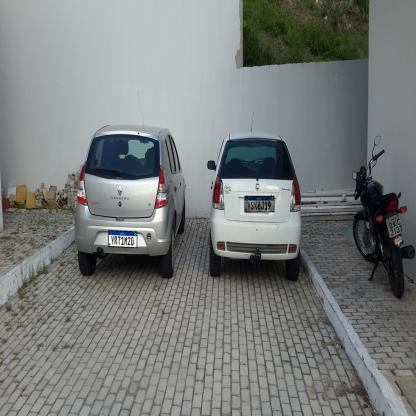PlacaM: (108, 230, 137, 248), (244, 196, 274, 212)
